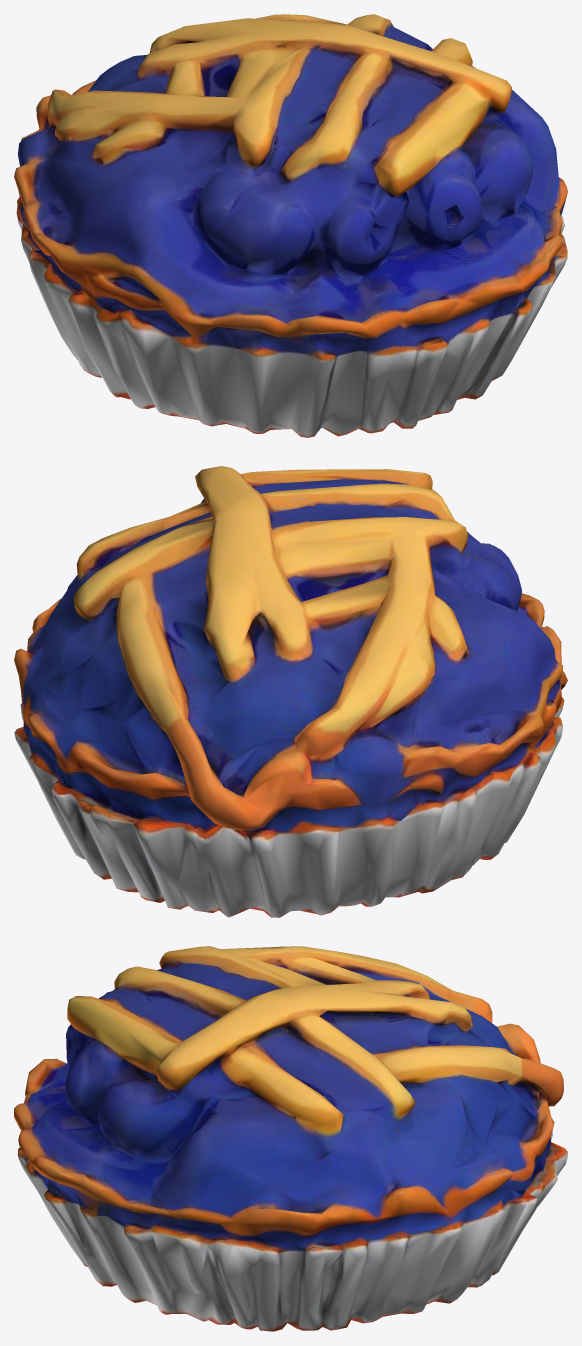
File: pie.glb
3 renders of one model, top to bottom at view 1: azimuth 30°, elevation 25°; view 2: azimuth 150°, elevation 25°; view 3: azimuth 270°, elevation 25°, orthographic. The views are drawn at different scales.
Parts seen in each view (by area): view 1: Mesh_0; view 2: Mesh_0; view 3: Mesh_0.
Boxes of the visible parts, x1,y1,x2,y2 form: Mesh_0: (14, 14, 567, 437); Mesh_0: (14, 466, 567, 917); Mesh_0: (14, 946, 567, 1331).
Size of the model in its own units: 1.87 by 1.1 by 2.
1 material, 1 textured.
